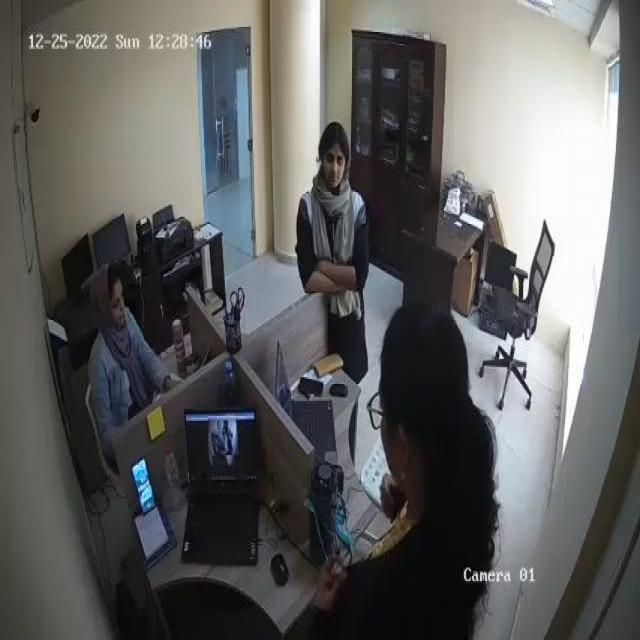bare_hand: (306, 525, 359, 616)
